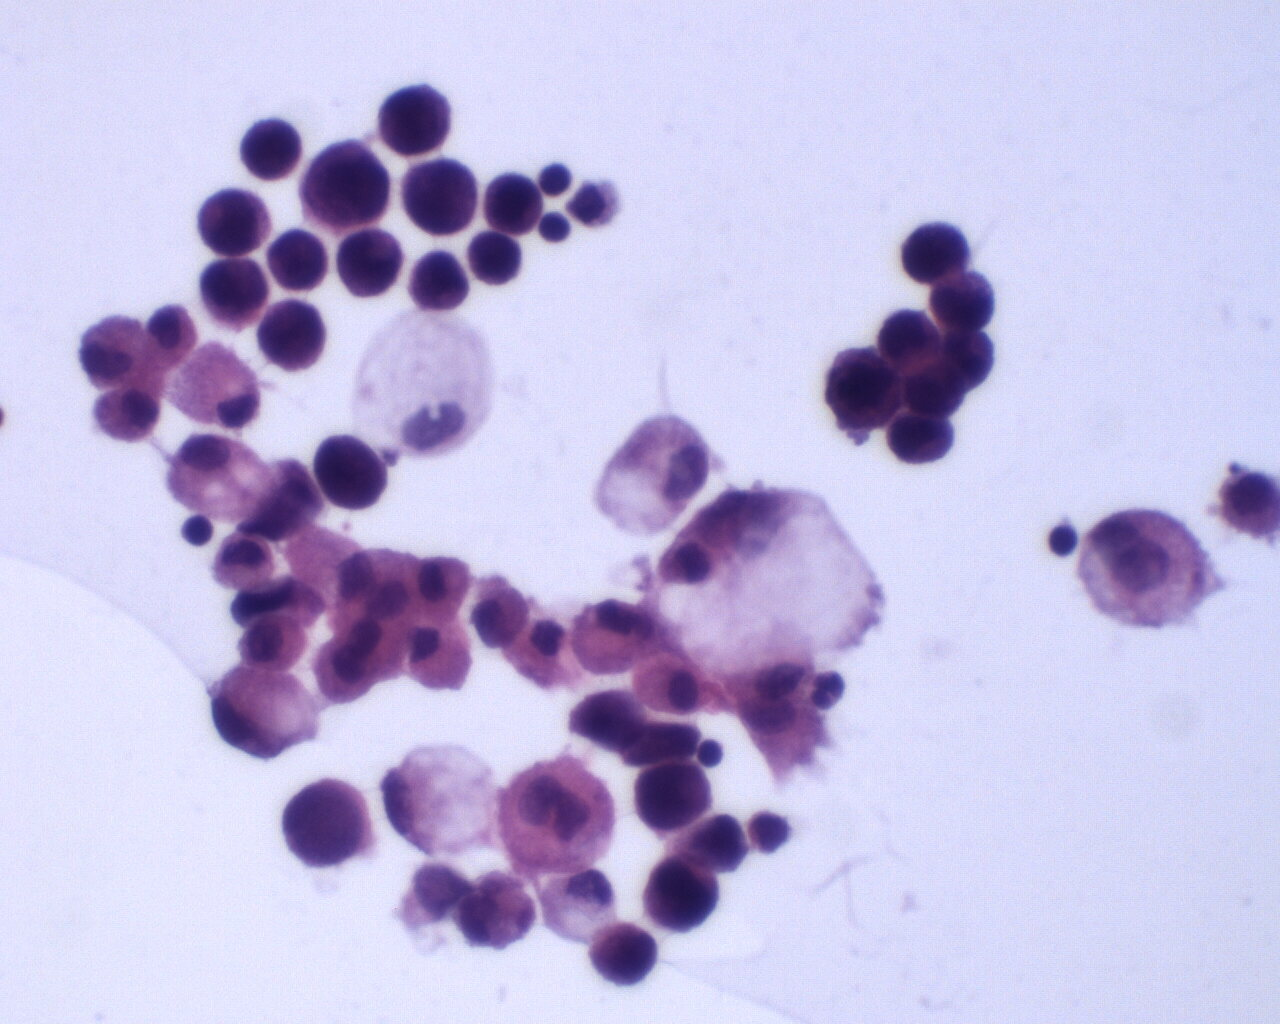ab: (297, 142, 398, 231), (278, 775, 372, 867), (825, 348, 905, 437), (400, 156, 481, 238), (313, 430, 393, 511), (643, 855, 723, 934), (253, 295, 329, 373), (377, 82, 456, 157), (631, 759, 713, 831), (195, 185, 274, 257), (335, 226, 408, 302), (197, 254, 270, 329), (588, 921, 659, 990), (239, 112, 307, 183), (900, 216, 973, 281), (266, 225, 333, 293), (928, 272, 1002, 332), (482, 170, 545, 239), (405, 249, 472, 312), (888, 410, 957, 470), (875, 305, 944, 362), (465, 227, 522, 287)
histo: (375, 734, 504, 858), (592, 406, 709, 535), (207, 661, 319, 762), (164, 432, 272, 521)
lymph: (1045, 522, 1085, 560)
meso: (408, 555, 472, 622), (91, 383, 160, 446)
neutro: (806, 664, 848, 711)
